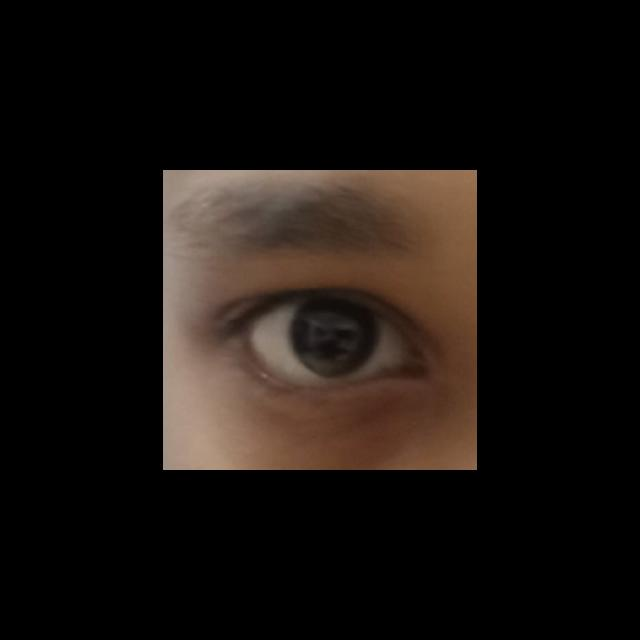eye: (247, 297, 410, 389)
iris: (291, 302, 381, 378)
